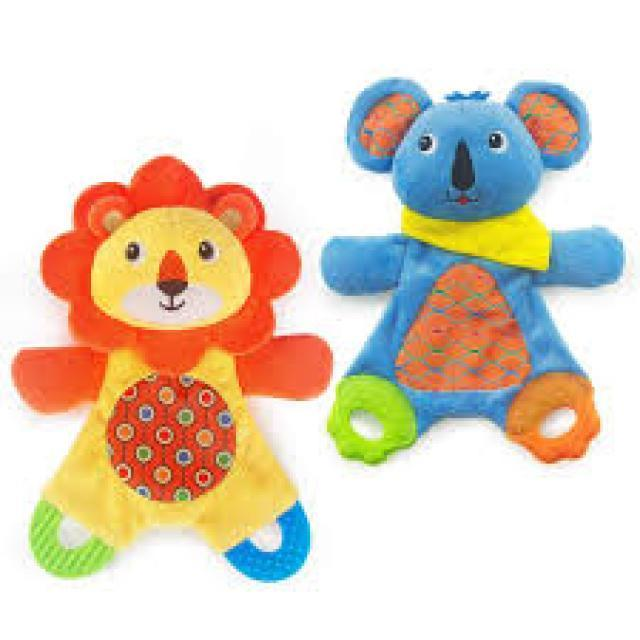soft-toy: (14, 156, 331, 579), (322, 79, 624, 463)
